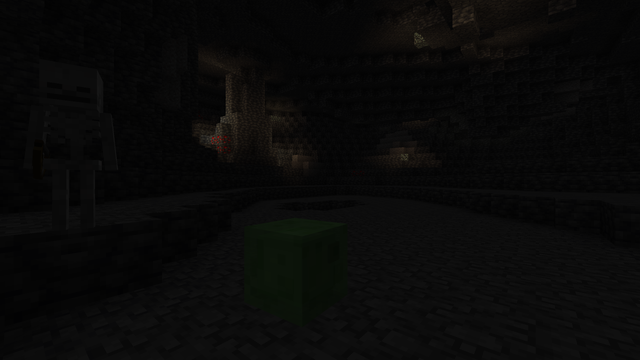slimes: (242, 215, 349, 329)
squelettes: (38, 56, 109, 235)
